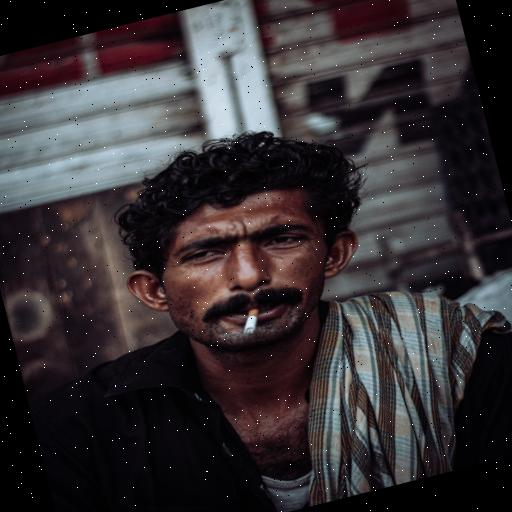dataset-deteksi-merokok: (155, 179, 352, 370)
